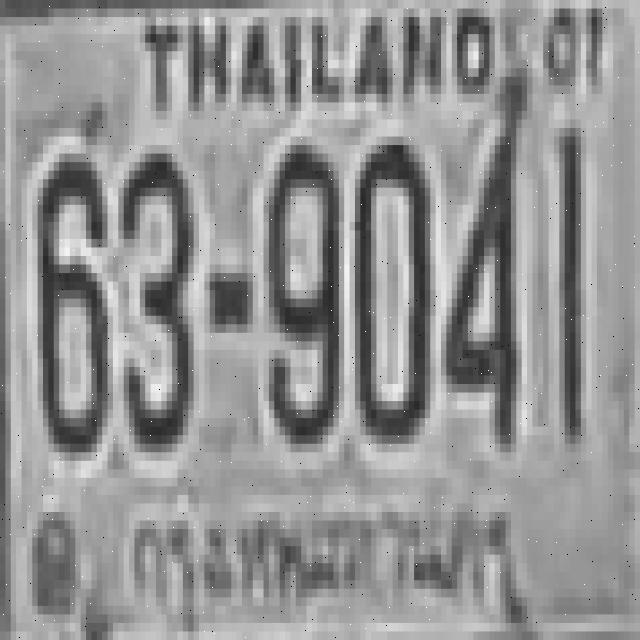0: (349, 137, 425, 435)
3: (118, 146, 188, 444)
4: (442, 111, 522, 444)
6: (32, 154, 102, 444)
9: (263, 137, 339, 435)
Bangkok: (120, 492, 524, 626)
